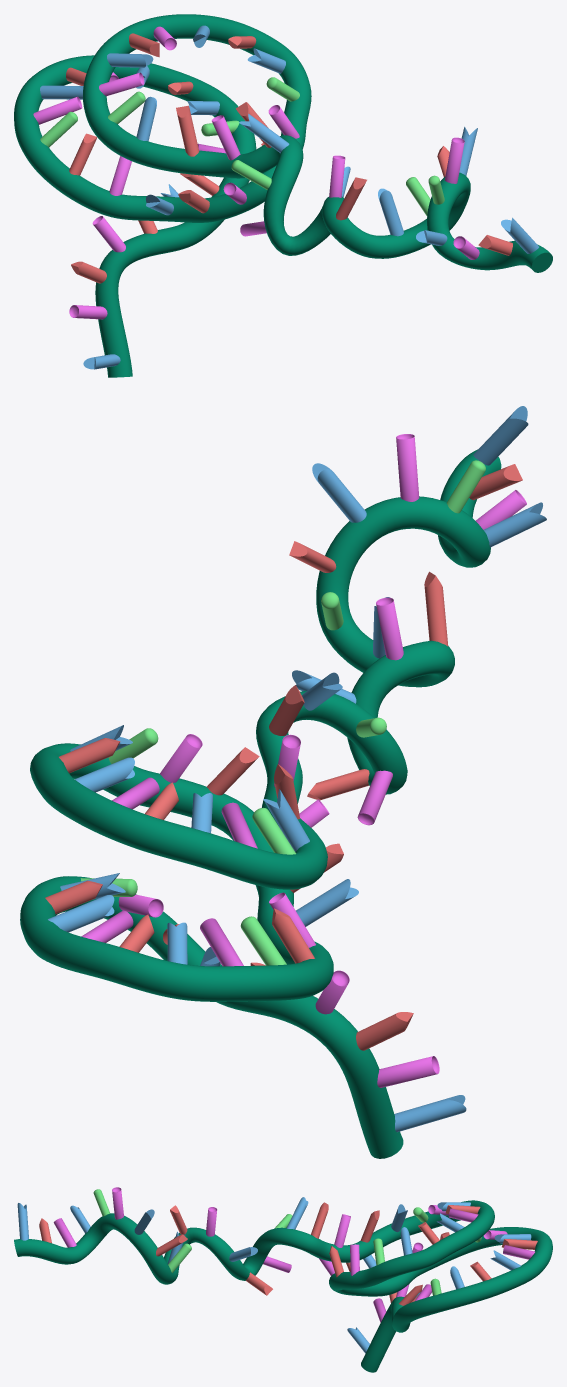
The model's file is index.gltf.
The picture shows the model from 3 angles, top to bottom: view 1: azimuth 30°, elevation 25°; view 2: azimuth 150°, elevation 25°; view 3: azimuth 270°, elevation 25°; orthographic projection. The views are drawn at different scales.
Parts seen in each view (by area): view 1: mrna1; view 2: mrna1; view 3: mrna1.
Part boxes in pixels (bbox=[...]): mrna1: bbox=[14, 14, 552, 377]; mrna1: bbox=[20, 406, 546, 1158]; mrna1: bbox=[14, 1187, 552, 1372].
Bounding box in the file's own units: 0.1991 × 0.2478 × 0.5084.
